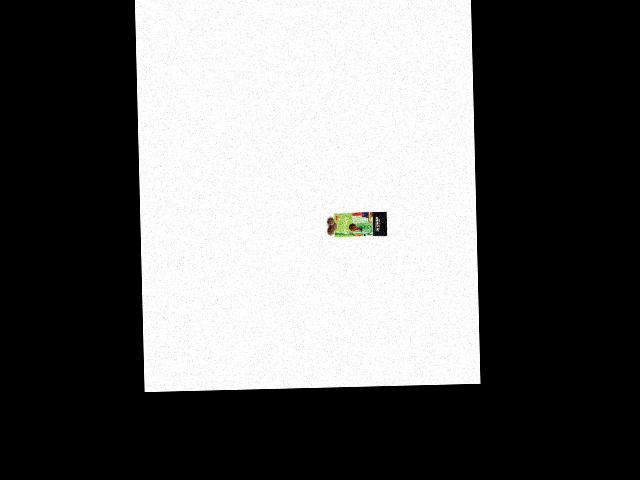chocolate: (332, 207, 389, 243)
